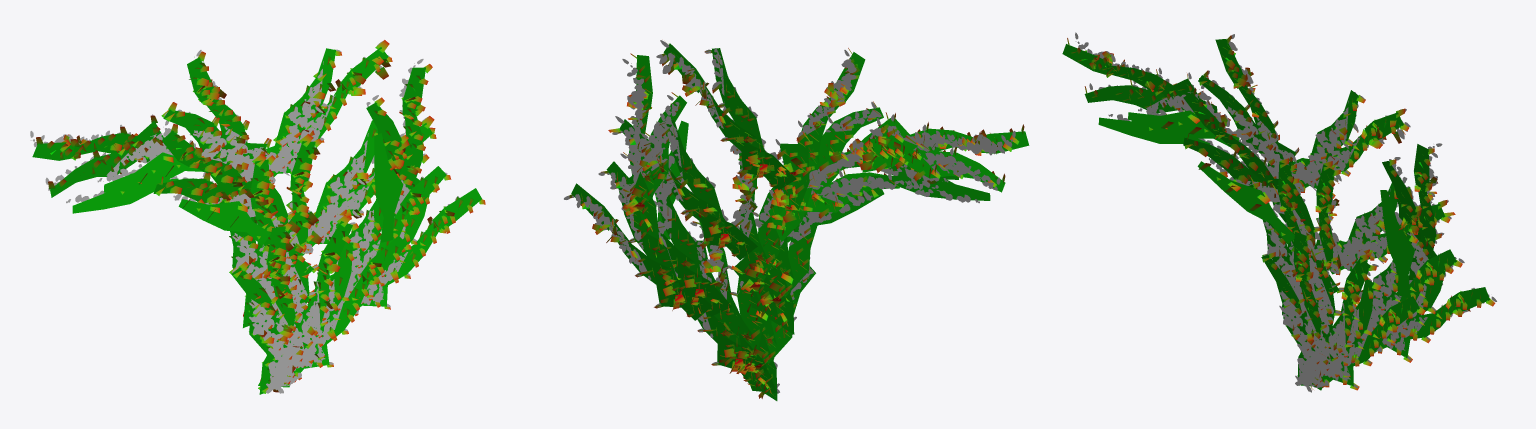
File: Ivy_A5.fbx
The picture shows the model from 3 angles, left to right: view 1: azimuth 30°, elevation 25°; view 2: azimuth 150°, elevation 25°; view 3: azimuth 330°, elevation 25°; orthographic projection. The views are drawn at different scales.
Parts seen in each view (by area): view 1: Ivy_A5_LOD0, Ivy_A5_BillBoard; view 2: Ivy_A5_LOD0, Ivy_A5_BillBoard; view 3: Ivy_A5_LOD0, Ivy_A5_BillBoard.
Boxes of the visible parts, left/top/right/bottom form: Ivy_A5_LOD0: left=32, top=40, right=485, bottom=394; Ivy_A5_BillBoard: left=30, top=40, right=459, bottom=393; Ivy_A5_LOD0: left=568, top=43, right=1029, bottom=400; Ivy_A5_BillBoard: left=564, top=40, right=1015, bottom=393; Ivy_A5_LOD0: left=1062, top=35, right=1495, bottom=390; Ivy_A5_BillBoard: left=1075, top=32, right=1496, bottom=392.
Size of what is drawn, in the model's own units: 180 by 136 by 12.73.
